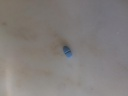Majezik: (62, 44, 73, 59)
